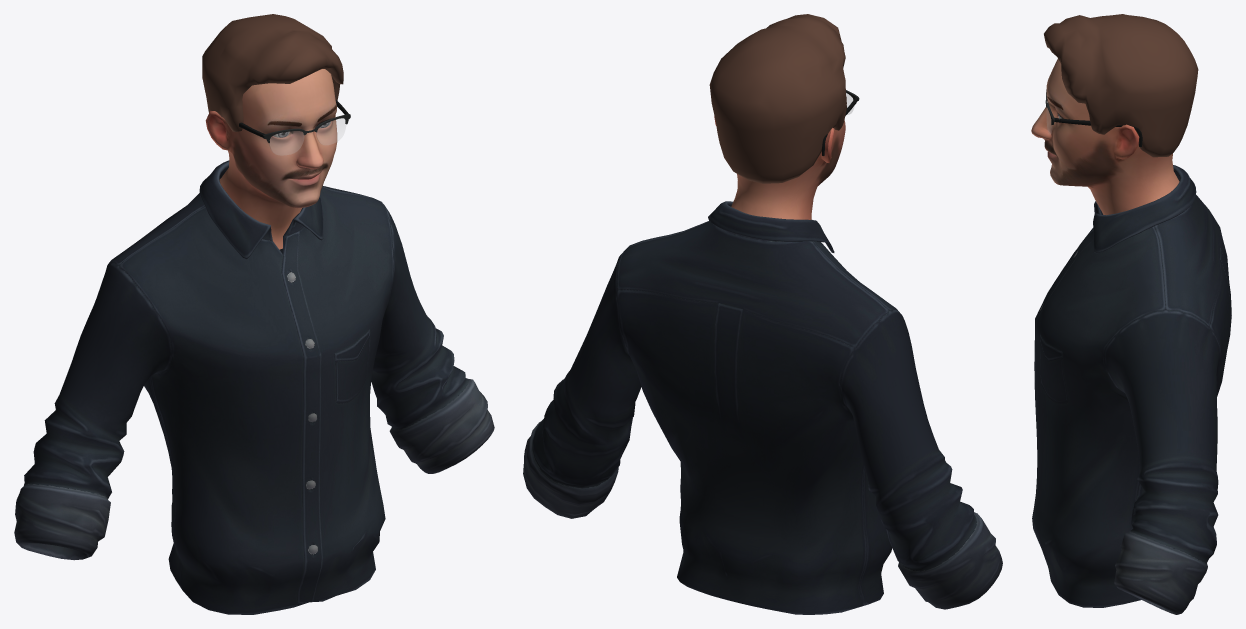
The model's file is portrait.glb.
3 views of the same model, side by side, from view 1: azimuth 30°, elevation 25°; view 2: azimuth 150°, elevation 25°; view 3: azimuth 270°, elevation 25° (orthographic).
Visible parts, largest first — view 1: Outfit_Top, Head, Hair, Glasses; view 2: Outfit_Top, Hair, Head; view 3: Outfit_Top, Hair, Head, Glasses.
Boxes of the visible parts, x1,y1,x2,y2 form: Outfit_Top: (14,160,494,614); Head: (205,69,337,249); Hair: (202,14,343,131); Glasses: (221,100,350,155); Outfit_Top: (523,201,1002,614); Hair: (709,14,846,183); Head: (714,116,845,219); Outfit_Top: (1032,165,1231,614); Hair: (1044,14,1198,157); Head: (1031,59,1179,215); Glasses: (1045,89,1142,146).
Bounding box in the file's own units: 0.7232 × 0.8226 × 0.272.
Materials: 5 (5 with a texture image).
